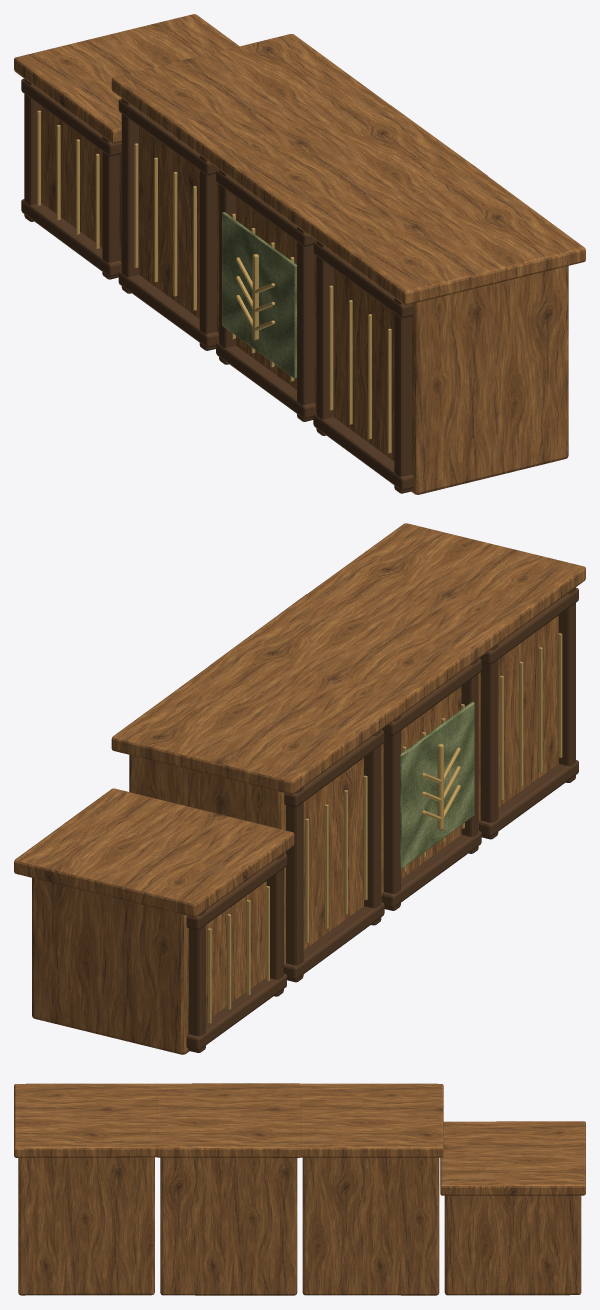
File: SM_HH_Q2_CounterStepped.fbx
3 renders of one model, top to bottom at view 1: azimuth 30°, elevation 25°; view 2: azimuth 150°, elevation 25°; view 3: azimuth 270°, elevation 25°, orthographic. The views are drawn at different scales.
Visible parts, largest first — view 1: HH_Q2_CounterStepped; view 2: HH_Q2_CounterStepped; view 3: HH_Q2_CounterStepped.
Boxes of the visible parts, x1,y1,x2,y2 form: HH_Q2_CounterStepped: [14, 14, 585, 494]; HH_Q2_CounterStepped: [14, 523, 585, 1054]; HH_Q2_CounterStepped: [14, 1083, 585, 1295].
Size of the model in its own units: 3.42 by 0.9395 by 1.02.
